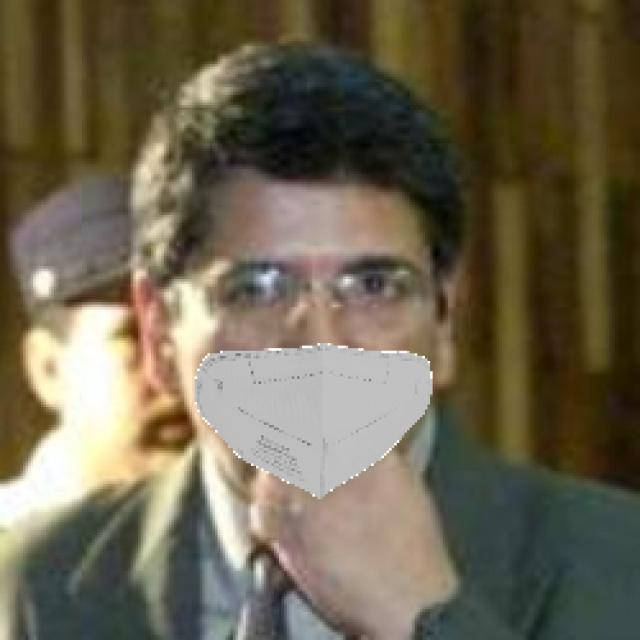kn95: (185, 134, 444, 496)
